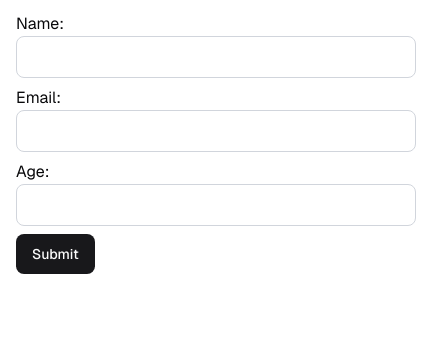
Test: UserForm Component › shows validation error for negative age
Step 1. Type "-1" into the number field labelled "Age:" → (216, 205), box [16, 184, 416, 226]
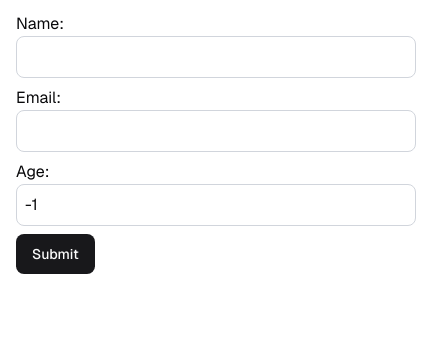
Step 2. Click the button "Submit" → click(55, 254), box [16, 234, 95, 274]
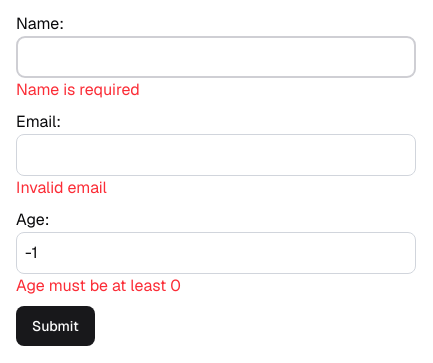
Expected: the text "Age must be at least 0" is shown, [16, 275, 181, 296]
